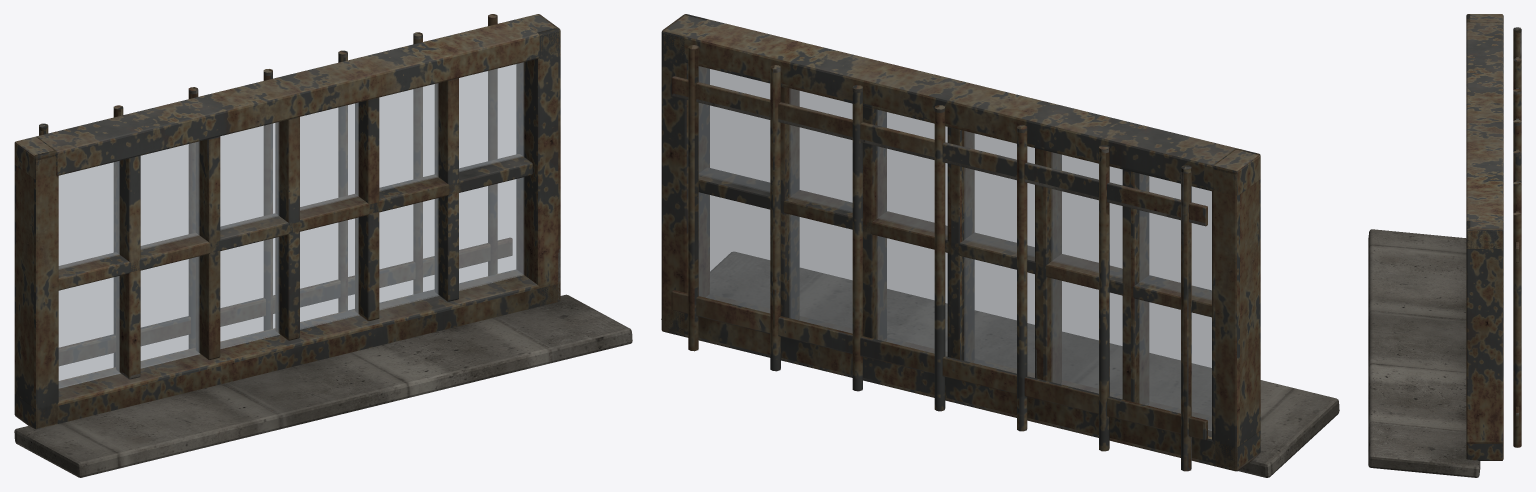
Rendered from Window_Basement.fbx.
The picture shows the model from 3 angles, left to right: view 1: azimuth 30°, elevation 25°; view 2: azimuth 150°, elevation 25°; view 3: azimuth 270°, elevation 25°; orthographic projection. The views are drawn at different scales.
Parts seen in each view (by area): view 1: Window_Basement_Mesh, Win_Glass; view 2: Window_Basement_Mesh, Win_Glass; view 3: Window_Basement_Mesh.
Boxes of the visible parts, bbox=[...] form: Window_Basement_Mesh: bbox=[14, 14, 632, 477]; Win_Glass: bbox=[58, 62, 523, 388]; Window_Basement_Mesh: bbox=[661, 14, 1339, 477]; Win_Glass: bbox=[698, 66, 1211, 430]; Window_Basement_Mesh: bbox=[1368, 14, 1521, 477].
Size of the model in its own units: 1.16 by 0.5768 by 0.3293.
